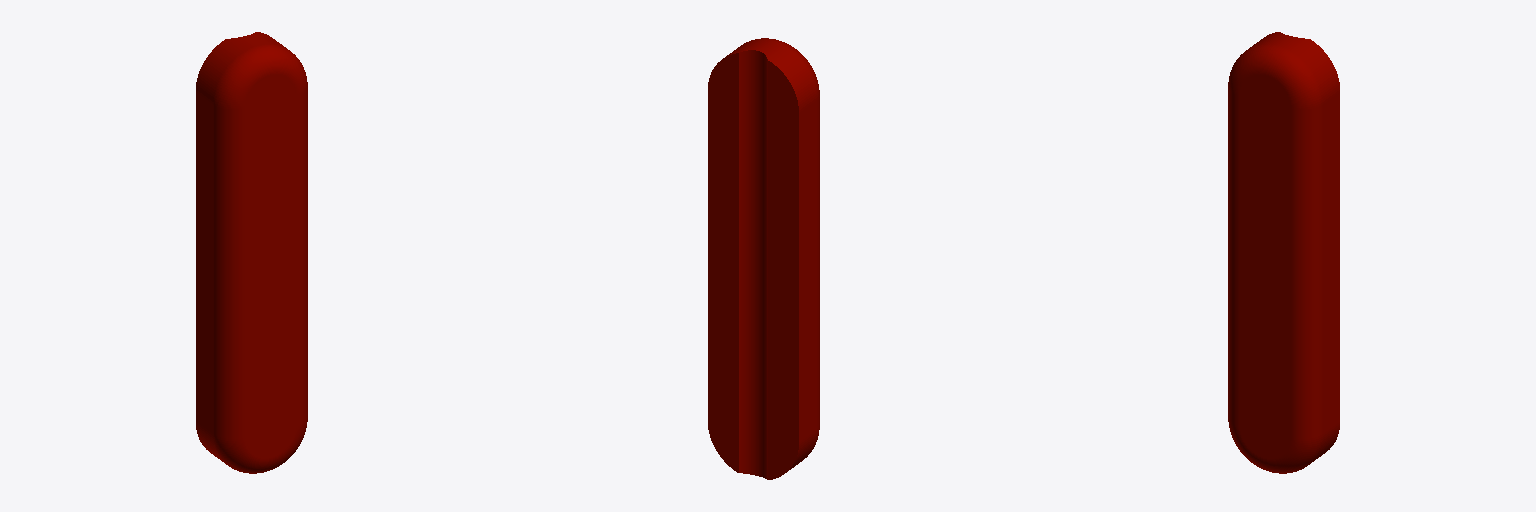
The model's file is right_armrest_visual.obj.
The picture shows the model from 3 angles: view 1: azimuth 30°, elevation 25°; view 2: azimuth 150°, elevation 25°; view 3: azimuth 330°, elevation 25°; orthographic projection.
Visible parts, largest first — view 1: right_armrest_visual.001; view 2: right_armrest_visual.001; view 3: right_armrest_visual.001.
Boxes of the visible parts, x1,y1,x2,y2 form: right_armrest_visual.001: [196, 32, 307, 473]; right_armrest_visual.001: [708, 38, 819, 479]; right_armrest_visual.001: [1228, 32, 1339, 473].
Bounding box in the file's own units: 0.0572 × 0.254 × 0.0318.